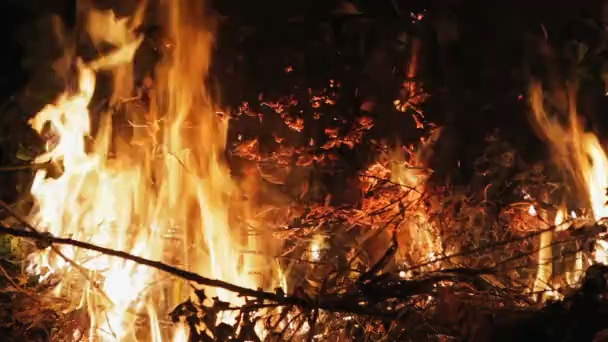fire: (19, 5, 285, 342), (528, 82, 608, 230), (527, 244, 585, 302), (592, 235, 607, 264), (309, 237, 319, 261)
